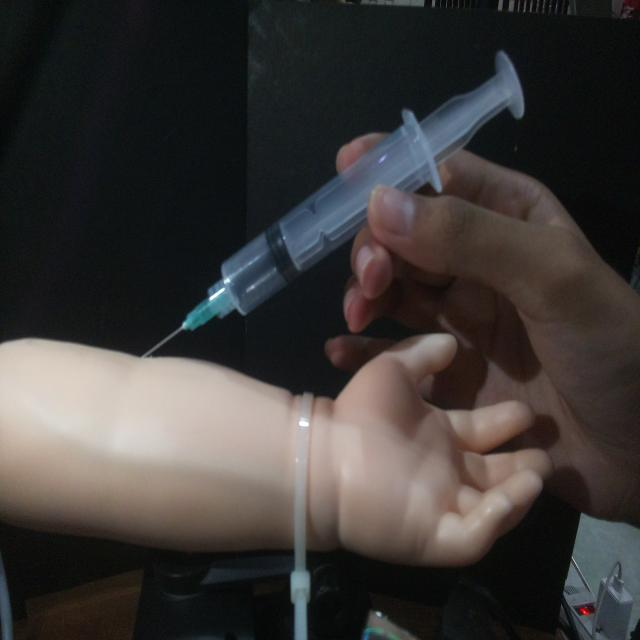29deg: (136, 46, 529, 360)
